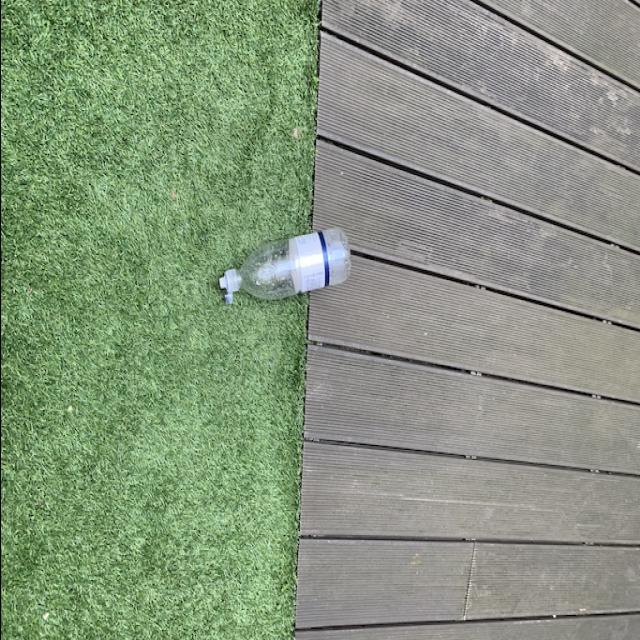PET: (217, 225, 351, 311)
